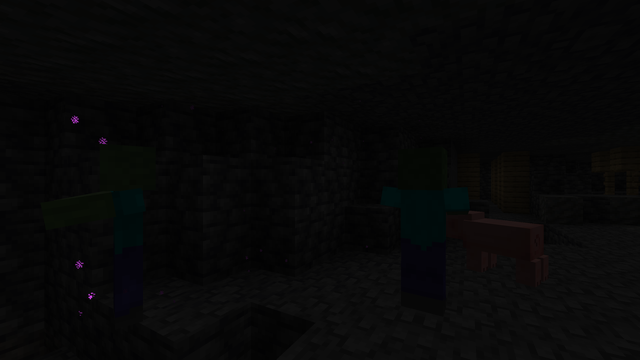cochons: (471, 216, 540, 286)
zombies: (84, 147, 167, 336), (393, 150, 450, 324)
